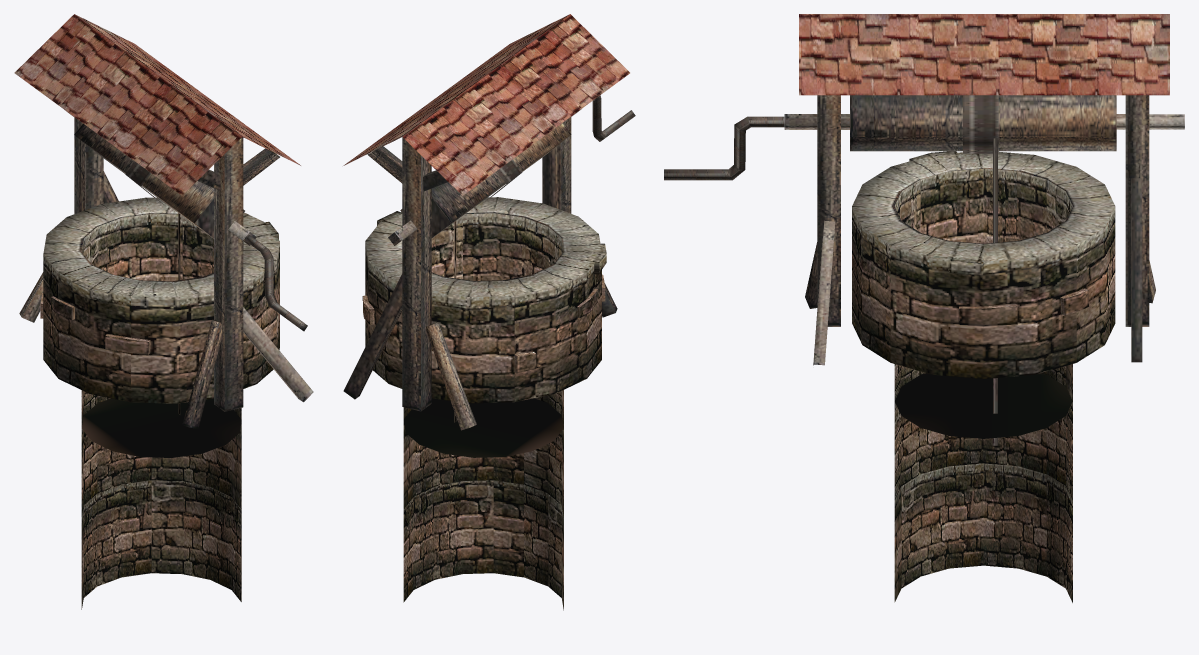
File: well.glb
The picture shows the model from 3 angles, left to right: view 1: azimuth 30°, elevation 25°; view 2: azimuth 150°, elevation 25°; view 3: azimuth 270°, elevation 25°; orthographic projection. The views are drawn at different scales.
Visible parts, largest first — view 1: well; view 2: well; view 3: well.
Boxes of the visible parts, box(x1,y1,x2,y2) form: well: box(14, 14, 313, 609); well: box(343, 14, 635, 610); well: box(664, 14, 1184, 602).
Size of the model in its own units: 2 by 4.75 by 3.82.
Materials: 3 (3 with a texture image).
